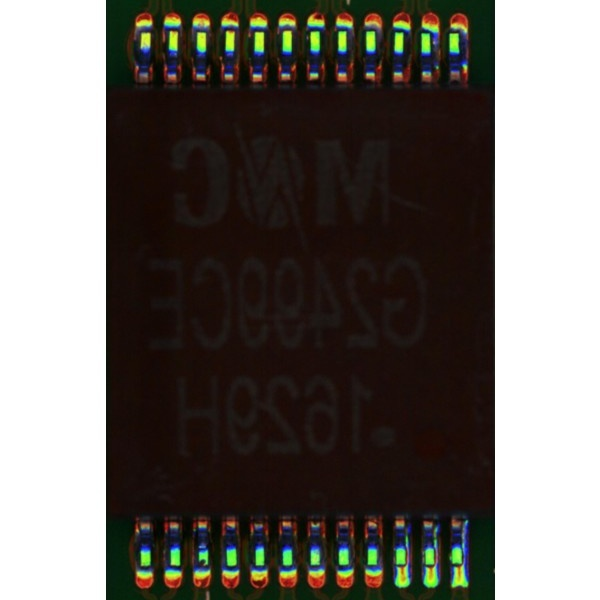Bad_podu: (399, 560, 407, 575), (428, 560, 436, 575), (456, 560, 464, 575)
Bad_qiaojiao: (435, 524, 440, 565), (462, 522, 467, 563), (405, 530, 410, 564)
